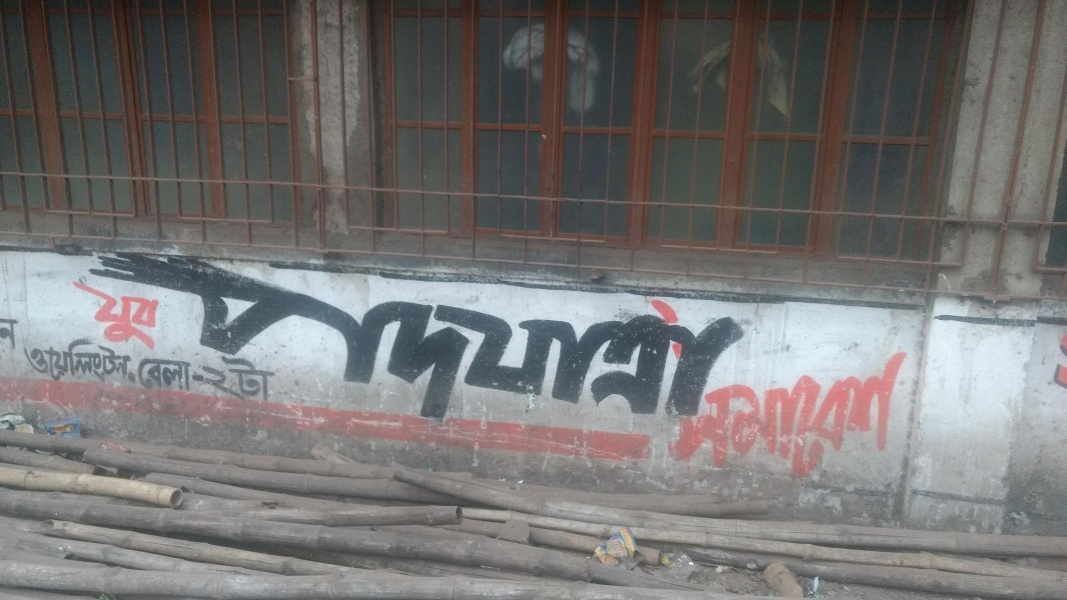text: (81, 237, 96, 461), (97, 237, 112, 461), (113, 237, 128, 461), (129, 237, 144, 461), (145, 237, 160, 461), (161, 237, 176, 461), (177, 237, 192, 461), (193, 237, 208, 461), (209, 237, 224, 461), (225, 237, 240, 461), (241, 237, 256, 461), (257, 237, 272, 461), (273, 237, 288, 461), (289, 237, 304, 461), (305, 237, 320, 461), (321, 237, 336, 461), (337, 237, 352, 461), (353, 237, 368, 461), (369, 237, 384, 461), (385, 237, 400, 461), (401, 237, 416, 461), (417, 237, 432, 461), (433, 237, 448, 461), (449, 237, 464, 461), (465, 237, 480, 461), (481, 237, 496, 461), (497, 237, 512, 461), (513, 237, 528, 461), (529, 237, 544, 461), (545, 237, 560, 461), (561, 237, 576, 461), (577, 237, 592, 461), (593, 237, 608, 461), (609, 237, 624, 461), (625, 237, 640, 461), (641, 237, 656, 461), (657, 237, 672, 461), (673, 237, 688, 461), (689, 237, 704, 461), (705, 237, 720, 461), (721, 237, 736, 461), (737, 237, 752, 461), (66, 237, 80, 461), (673, 349, 688, 494), (689, 349, 704, 494), (705, 349, 720, 494), (721, 349, 736, 494), (737, 349, 752, 494), (753, 349, 768, 494), (769, 349, 784, 494), (785, 349, 800, 494), (801, 349, 816, 494), (817, 349, 832, 494), (833, 349, 848, 494), (849, 349, 864, 494), (865, 349, 880, 494), (881, 349, 896, 494), (897, 349, 912, 494), (81, 278, 96, 354), (97, 278, 112, 354), (113, 278, 128, 354), (129, 278, 144, 354), (145, 278, 160, 354), (753, 237, 757, 461), (70, 278, 80, 354), (33, 338, 48, 385), (49, 338, 64, 385), (65, 338, 80, 385), (81, 338, 96, 385), (97, 338, 112, 385), (113, 338, 128, 385), (209, 359, 224, 405), (225, 359, 240, 405), (241, 359, 256, 405), (257, 359, 272, 405), (1, 316, 16, 357), (145, 352, 160, 392), (161, 352, 176, 392), (177, 352, 192, 392), (130, 352, 144, 392), (22, 338, 32, 385), (129, 338, 138, 385), (609, 536, 624, 563), (670, 349, 672, 494), (204, 359, 208, 405), (161, 278, 163, 354), (625, 536, 630, 563), (17, 316, 20, 357), (193, 352, 195, 392), (273, 359, 274, 405)
